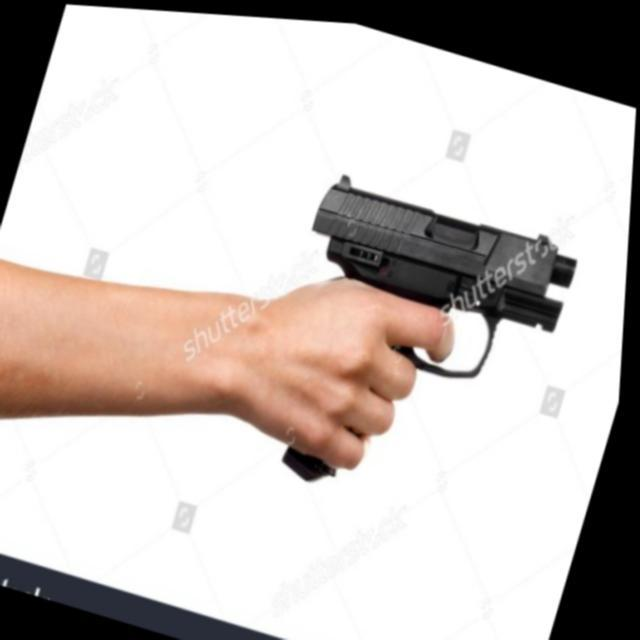weapon: (245, 160, 588, 534)
